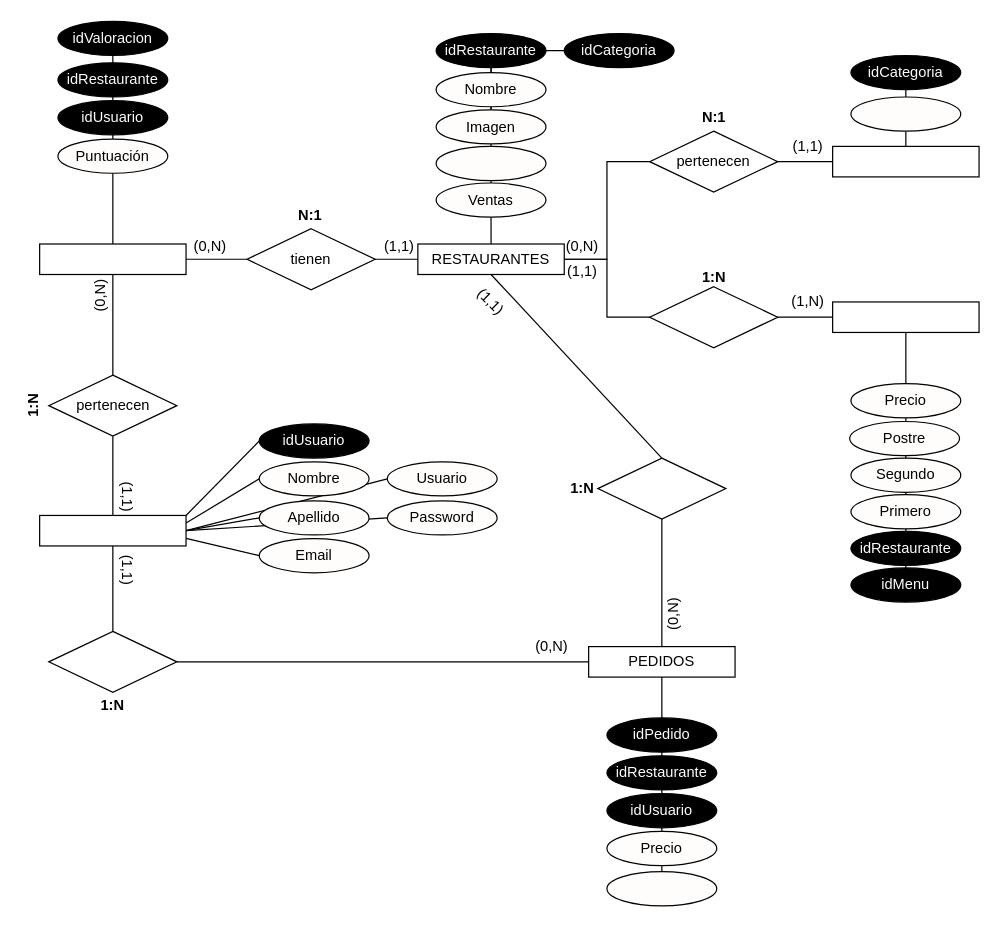
Some shapes in this 1000 by 927 pixel diagram are drawn without their labels. Here are the shapes that lost their labels. From the top down, the centre of each, then its label:
At point (905, 113): "Categoria".
At point (490, 163): "Descripcion".
At point (905, 161): "CATEGORIAS".
At point (112, 258): "VALORACIONES".
At point (713, 316): "elaboran".
At point (905, 316): "MENUS".
At point (661, 488): "reciben".
At point (112, 530): "USUARIOS".
At point (112, 661): "realizan".
At point (661, 888): "Cantidad".
